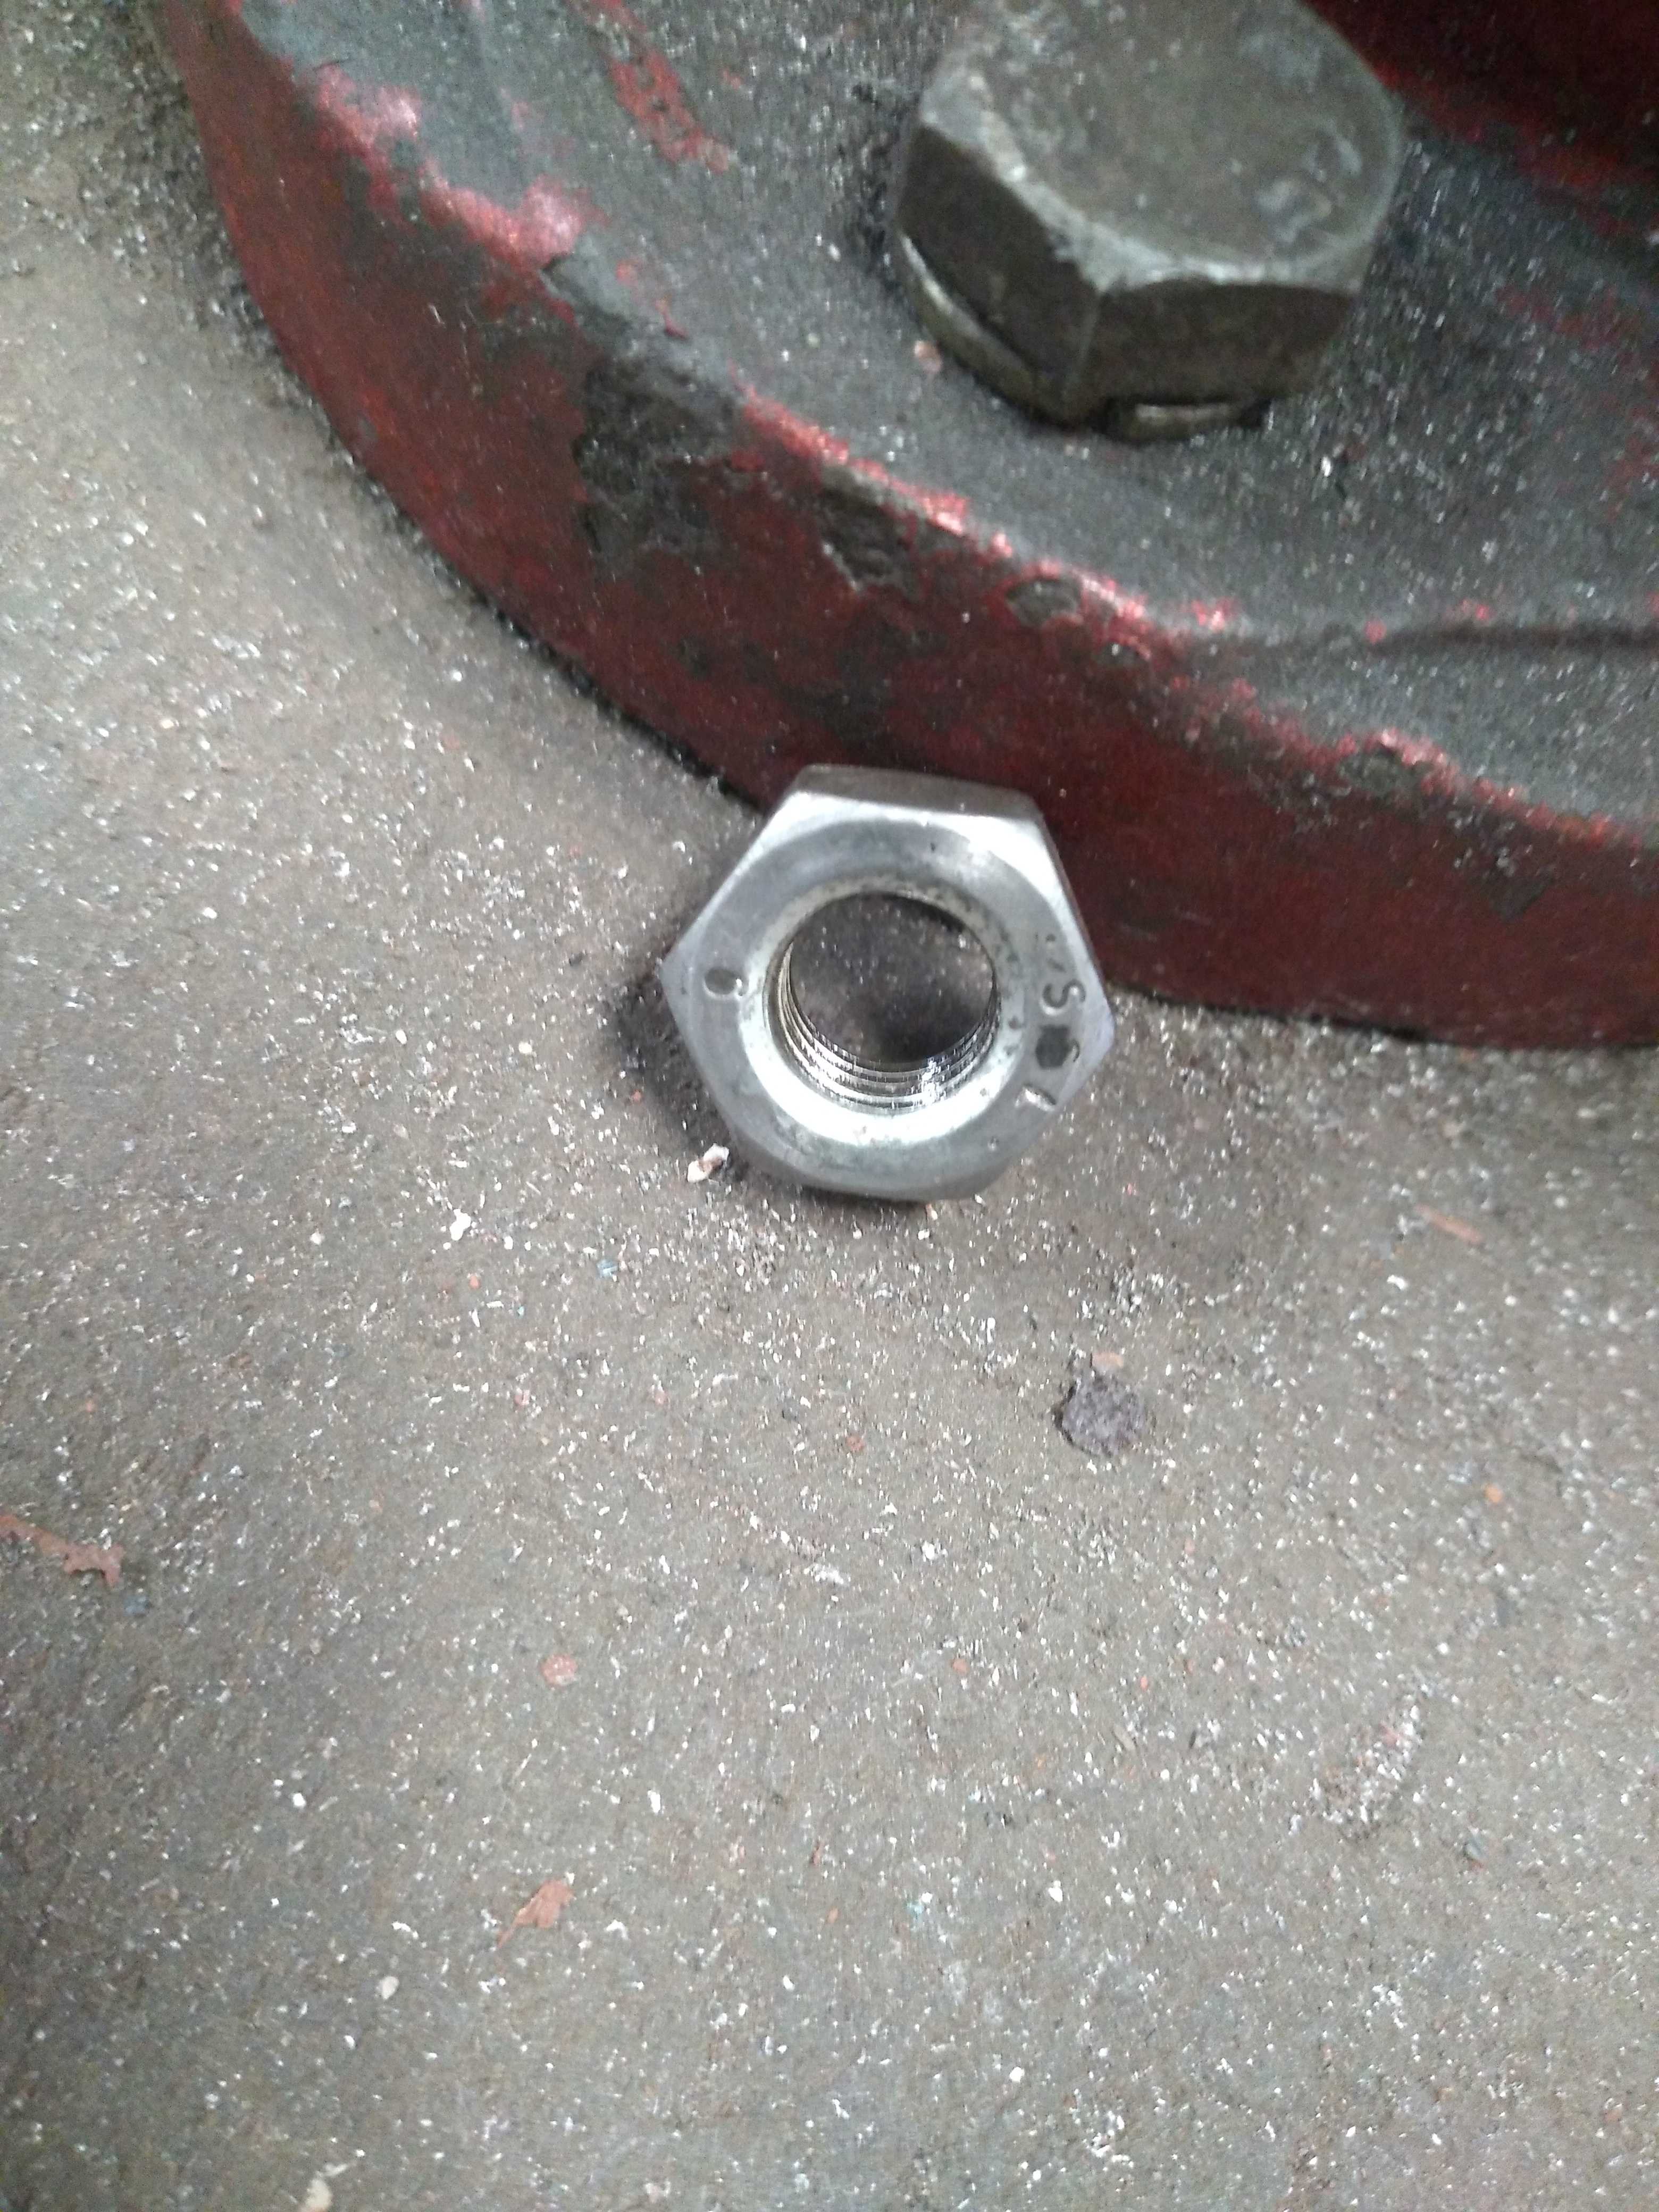Thread: (721, 890, 1075, 1174)
